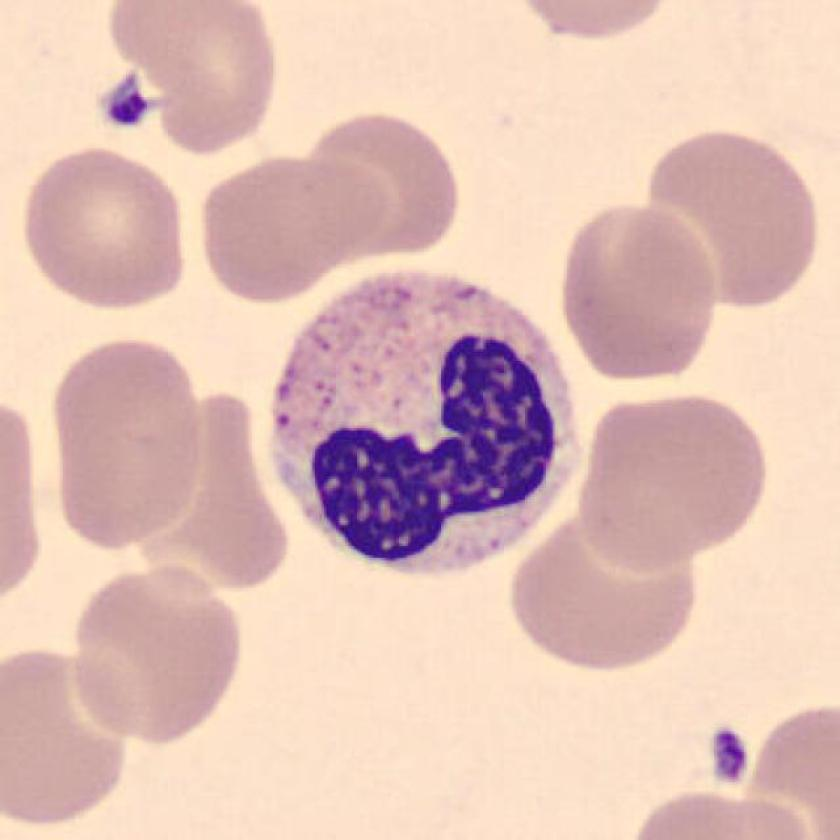neutrophil: (278, 274, 581, 575)
